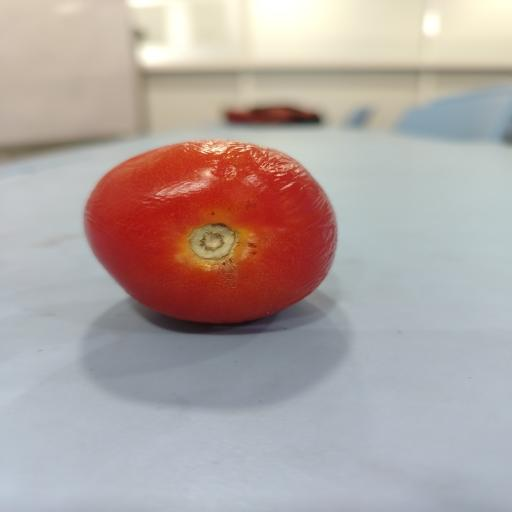spoiled: (84, 140, 336, 323)
